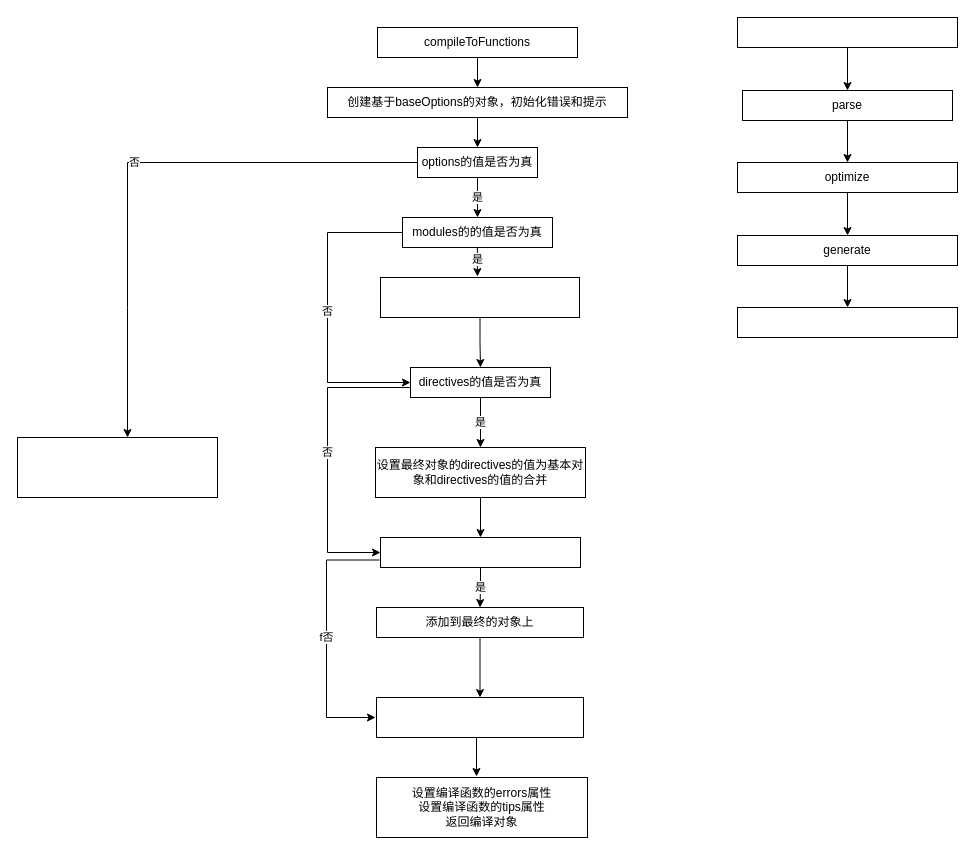
The diagram is 975 pixels wide and 855 high, and some of its shapes have lost their labels. Each missing label, with the centre of its shape:
baseCompile: point 847,32
是否还有其他参数: point 480,552
最终对象的modules定义为数组进行数组的拼接: point 480,297
设置compiled的值为调用baseCompile的返回值: point 480,717
返回值: point 847,322
返回编译函数和编译转换为函数: point 117,467
